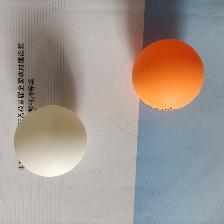WhiteBall: (13, 104, 88, 177)
YellowBall: (130, 39, 204, 110)
